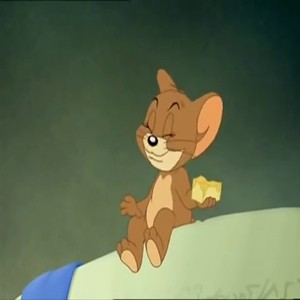Jerry: (113, 62, 223, 269)
